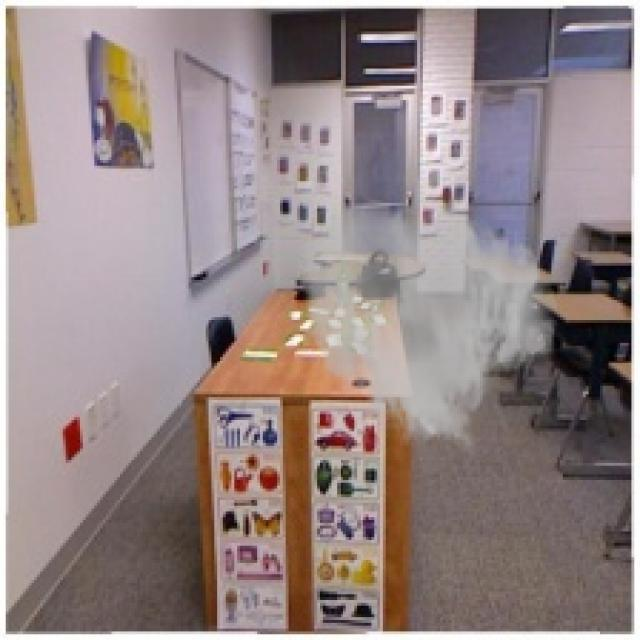Smoke: (294, 197, 560, 454)
